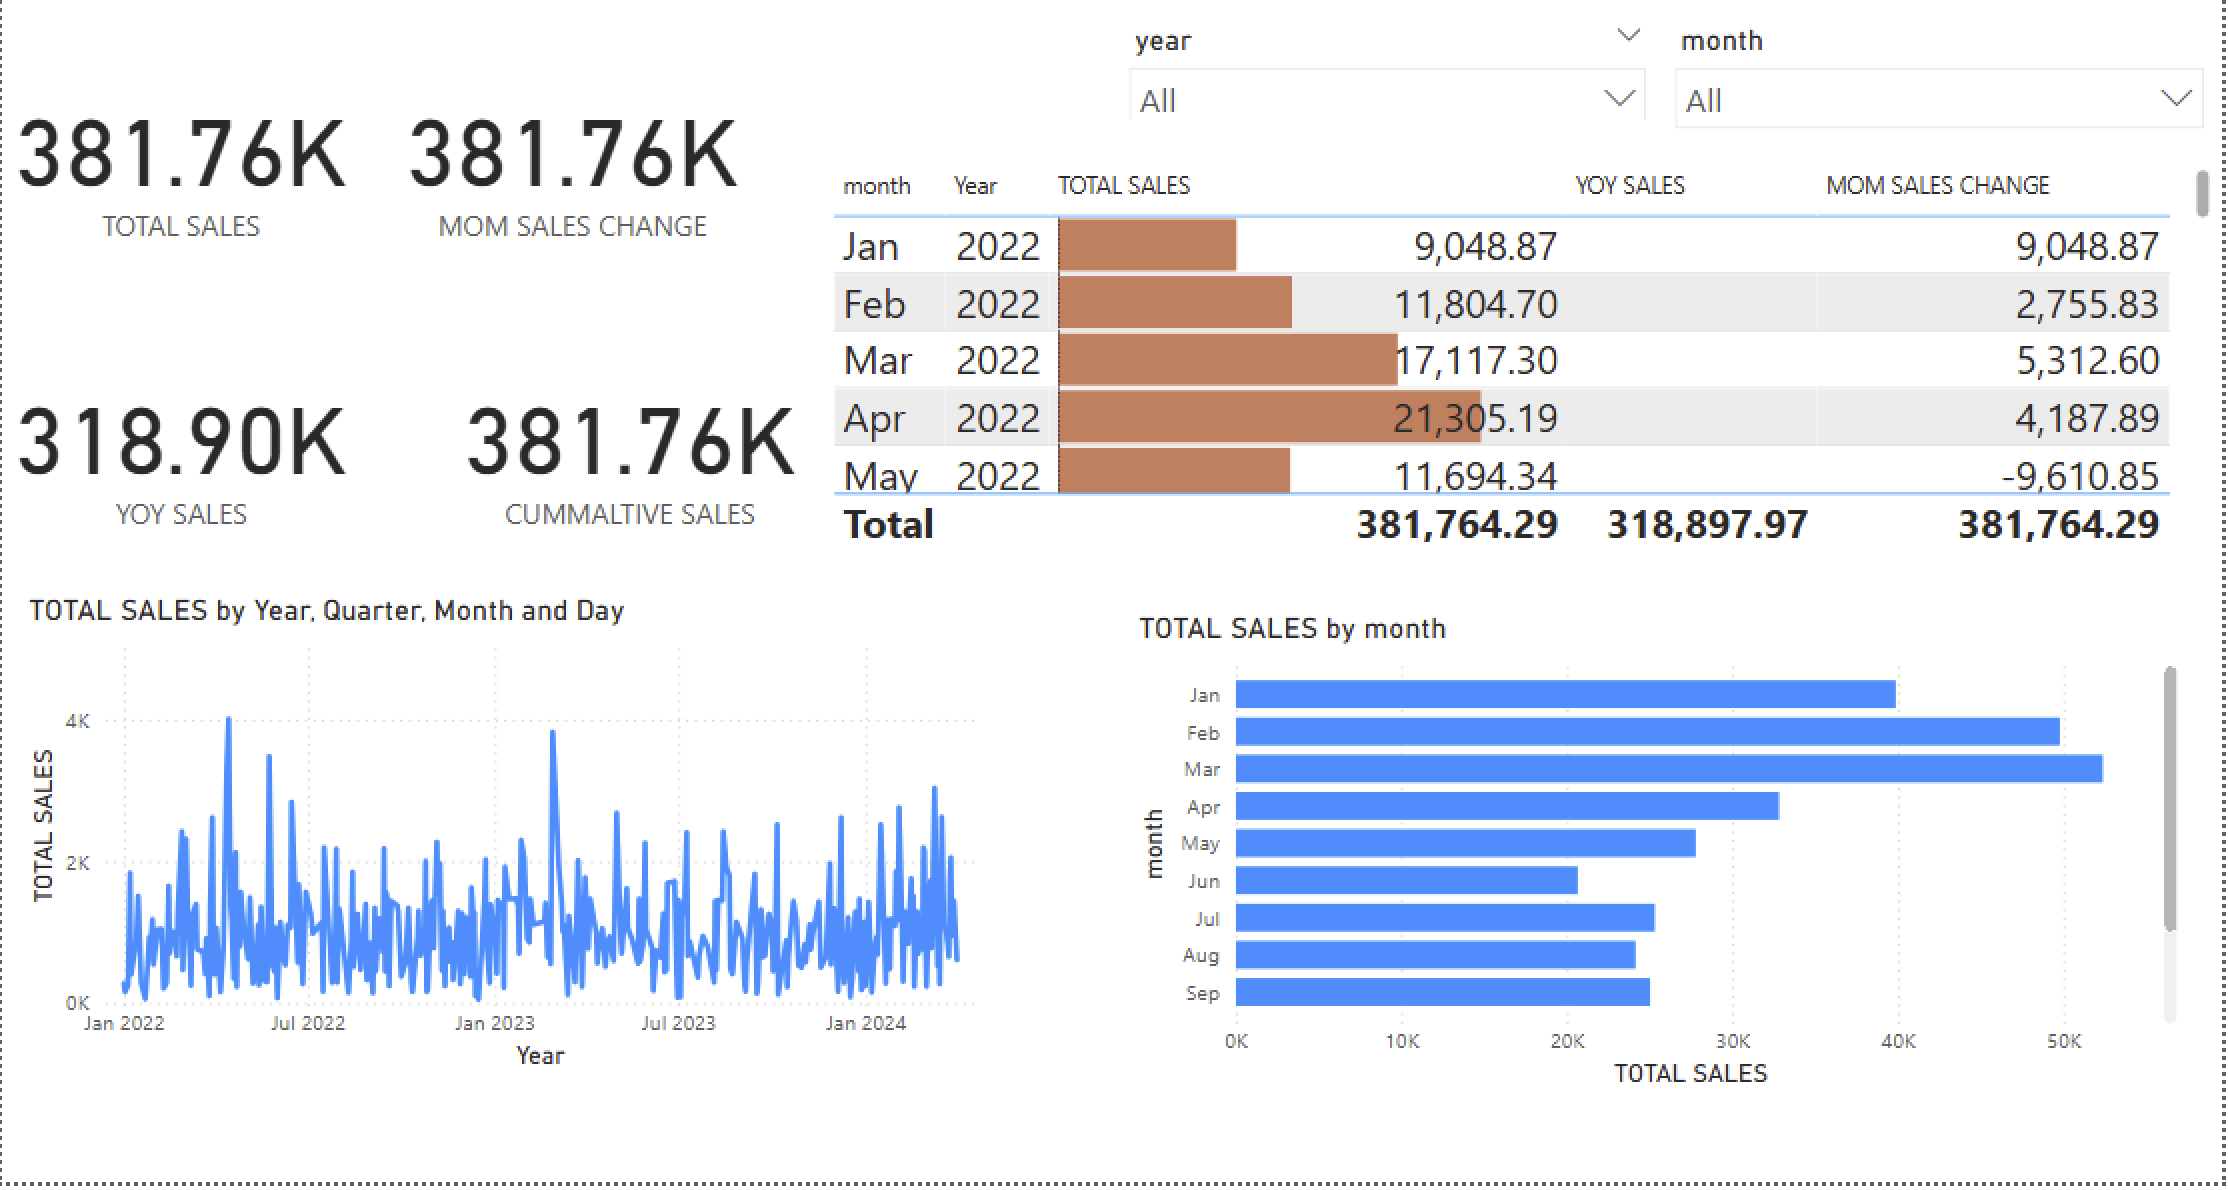

What the dashboard file says about the page in this screenshot:
{"tool":"powerbi","page":{"name":"Page 1","canvas":[1280,720],"ordinal":0},"visuals":[{"type":"card","fields":{"Values":["sales_data.TOTAL SALES"]},"box":[0,45.9,206.7,166.9],"z":1},{"type":"card","fields":{"Values":["sales_data.YOY SALES"]},"box":[0,212.8,206.7,166.9],"z":2},{"type":"card","fields":{"Values":["sales_data.MOM SALES CHANGE"]},"box":[215.9,45.9,226.6,166.9],"z":3},{"type":"card","fields":{"Values":["sales_data.CUMMALTIVE SALES"]},"box":[218.9,212.8,286.3,166.9],"z":4},{"type":"lineChart","fields":{"Y":["sales_data.TOTAL SALES"],"Category":["Date_Table.Date.Variation.Date Hierarchy.Year","Date_Table.Date.Variation.Date Hierarchy.Quarter","Date_Table.Date.Variation.Date Hierarchy.Month","Date_Table.Date.Variation.Date Hierarchy.Day"]},"box":[10.7,379.7,569.6,280.2],"z":5},{"type":"slicer","fields":{"Values":["Date_Table. year "]},"box":[640,45.9,318.5,61.2],"z":6},{"type":"clusteredBarChart","fields":{"Y":["sales_data.TOTAL SALES"],"Category":["Date_Table.month"]},"box":[650.7,390.4,609.4,280.2],"z":7},{"type":"tableEx","fields":{"Values":["Date_Table.month","Date_Table.Date.Variation.Date Hierarchy.Year","sales_data.TOTAL SALES","sales_data.YOY SALES","sales_data.MOM SALES CHANGE"]},"box":[474.6,130.1,805.4,229.7],"z":8},{"type":"slicer","fields":{"Values":["Date_Table.month"]},"box":[955.4,45.9,324.6,84.2],"z":9}]}

Visuals, with their boxes on the page's 1280x720 design canvas (x1, y1, x2, y2). These are canvas units, not pixel positions in the 2228x1190 screenshot, which may show the page scaled, cropped or inside an application window:
card - sales_data.TOTAL SALES: rect(0, 46, 207, 213)
card - sales_data.YOY SALES: rect(0, 213, 207, 380)
card - sales_data.MOM SALES CHANGE: rect(216, 46, 442, 213)
card - sales_data.CUMMALTIVE SALES: rect(219, 213, 505, 380)
lineChart - sales_data.TOTAL SALES x Date_Table.Date.Variation.Date Hierarchy.Year: rect(11, 380, 580, 660)
slicer - Date_Table. year : rect(640, 46, 958, 107)
clusteredBarChart - sales_data.TOTAL SALES x Date_Table.month: rect(651, 390, 1260, 671)
tableEx - Date_Table.month x Date_Table.Date.Variation.Date Hierarchy.Year: rect(475, 130, 1280, 360)
slicer - Date_Table.month: rect(955, 46, 1280, 130)
